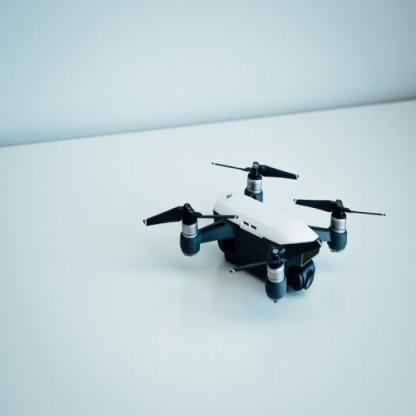drone: (160, 148, 380, 304)
